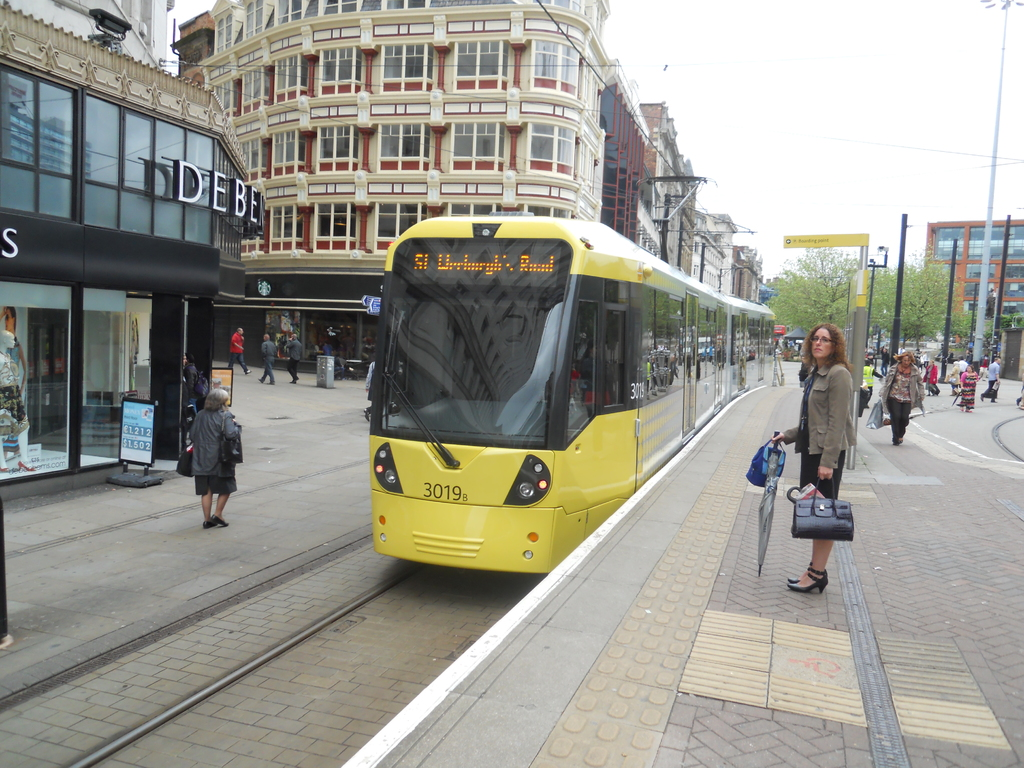train: (360, 217, 783, 588)
